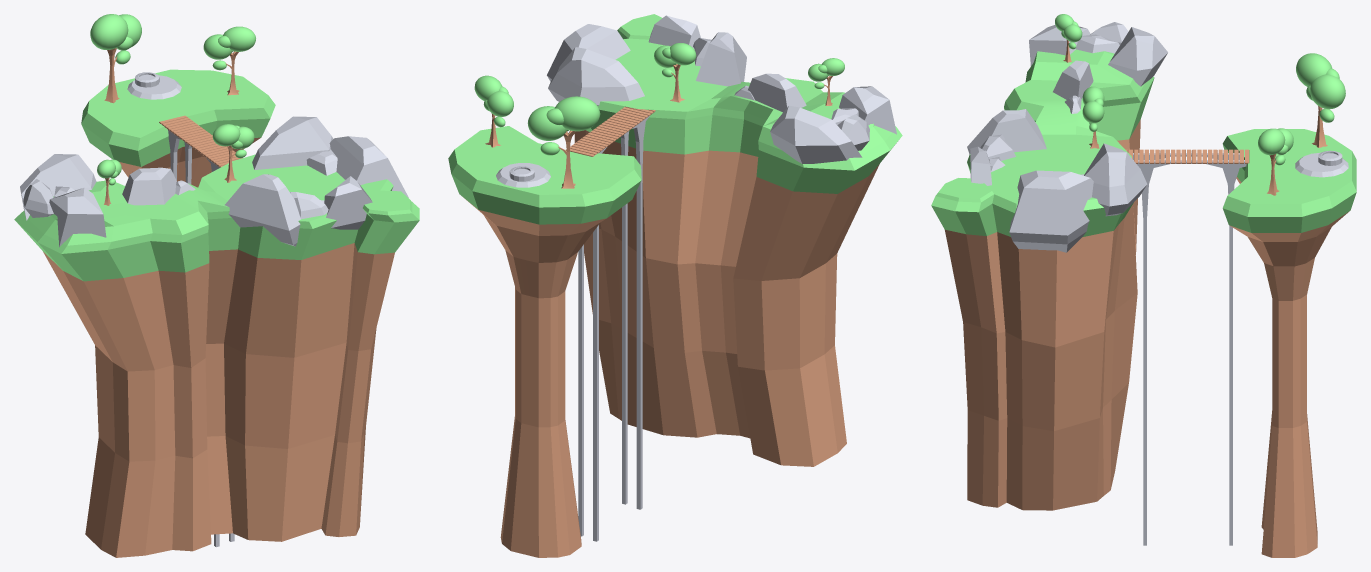
Rendered from Island.fbx.
The picture shows the model from 3 angles, left to right: view 1: azimuth 30°, elevation 25°; view 2: azimuth 150°, elevation 25°; view 3: azimuth 270°, elevation 25°; orthographic projection.
Visible parts, largest first — view 1: BigIsland, SmallIsland, Rock_9, Rock_7, Rock_11, Rock_3, Rock_5, Rock_10, Rock_8, b_TreeLeafs_1, Rock_14, Rock_16 (+4 smaller); view 2: BigIsland, SmallIsland, BridgeSupp_2, BridgeSupp_1, Rock_7, Rock_5, Rock_9, Rock_11, Rock_3, Rock_8, b_TreeLeafs_1, Rock_10 (+3 smaller); view 3: BigIsland, SmallIsland, Rock_11, BridgeSupp_1, Rock_7, Rock_5, Rock_9, Rock_8, Rock_3, b_TreeLeafs_3, b_TreeLeafs_1, Rock_10 (+3 smaller).
Part boxes in pixels (bbox=[...]): BigIsland: bbox=[14, 154, 419, 557]; SmallIsland: bbox=[81, 69, 275, 187]; Rock_9: bbox=[225, 174, 300, 246]; Rock_7: bbox=[252, 116, 333, 169]; Rock_11: bbox=[329, 136, 408, 197]; Rock_3: bbox=[49, 187, 106, 247]; Rock_5: bbox=[20, 154, 96, 220]; Rock_10: bbox=[324, 176, 372, 229]; Rock_8: bbox=[122, 167, 176, 205]; b_TreeLeafs_1: bbox=[90, 14, 128, 49]; Rock_14: bbox=[23, 179, 53, 217]; Rock_16: bbox=[290, 192, 328, 218]; BigIsland: bbox=[574, 14, 902, 466]; SmallIsland: bbox=[448, 126, 641, 557]; BridgeSupp_2: bbox=[593, 116, 649, 541]; BridgeSupp_1: bbox=[578, 131, 629, 536]; Rock_7: bbox=[548, 47, 644, 105]; Rock_5: bbox=[770, 105, 862, 163]; Rock_9: bbox=[696, 32, 746, 86]; Rock_11: bbox=[547, 24, 630, 81]; Rock_3: bbox=[839, 86, 896, 134]; Rock_8: bbox=[748, 73, 806, 112]; b_TreeLeafs_1: bbox=[554, 96, 600, 131]; Rock_10: bbox=[648, 15, 700, 46]; BigIsland: bbox=[931, 49, 1154, 510]; SmallIsland: bbox=[1222, 129, 1356, 557]; Rock_11: bbox=[1009, 170, 1093, 252]; BridgeSupp_1: bbox=[1133, 160, 1246, 545]; Rock_7: bbox=[1084, 143, 1147, 216]; Rock_5: bbox=[1108, 27, 1167, 86]; Rock_9: bbox=[967, 109, 1046, 154]; Rock_8: bbox=[1053, 60, 1093, 99]; Rock_3: bbox=[1029, 25, 1090, 65]; b_TreeLeafs_3: bbox=[1310, 74, 1345, 109]; b_TreeLeafs_1: bbox=[1296, 53, 1332, 86]; Rock_10: bbox=[970, 146, 991, 185].
Bounding box in the file's own units: 15.55 × 20.44 × 16.7.
